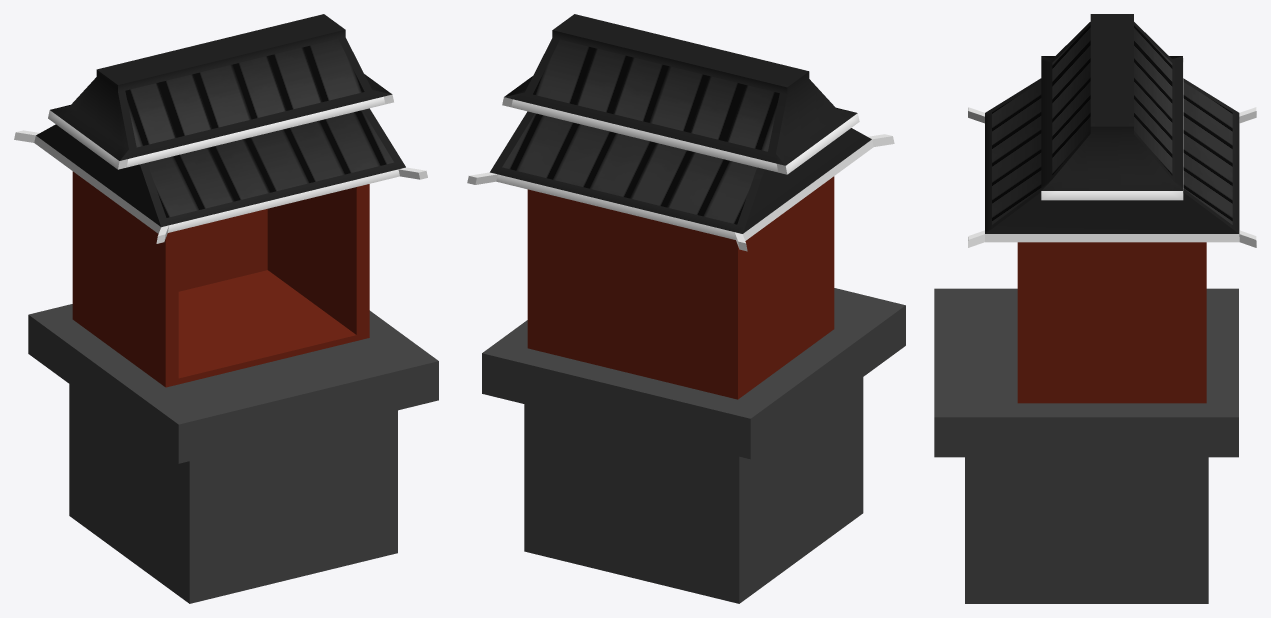
File: kamisama.fbx
The picture shows the model from 3 angles, left to right: view 1: azimuth 30°, elevation 25°; view 2: azimuth 150°, elevation 25°; view 3: azimuth 270°, elevation 25°; orthographic projection. The views are drawn at different scales.
Parts seen in each view (by area): view 1: pCube4, pCube1, pCube3, pCube2; view 2: pCube4, pCube1, pCube3, pCube2; view 3: pCube4, pCube1, pCube3, pCube2.
Boxes of the visible parts, x1,y1,x2,y2 form: pCube4: (28, 304, 438, 603); pCube1: (72, 171, 369, 387); pCube3: (48, 14, 393, 169); pCube2: (14, 108, 427, 243); pCube4: (482, 288, 905, 603); pCube1: (527, 176, 834, 399); pCube3: (502, 14, 859, 174); pCube2: (467, 111, 894, 251); pCube4: (934, 288, 1238, 603); pCube1: (1017, 242, 1206, 403); pCube3: (1041, 14, 1183, 200); pCube2: (968, 78, 1256, 247).
Bounding box in the file's own units: 201 × 331 × 200.
